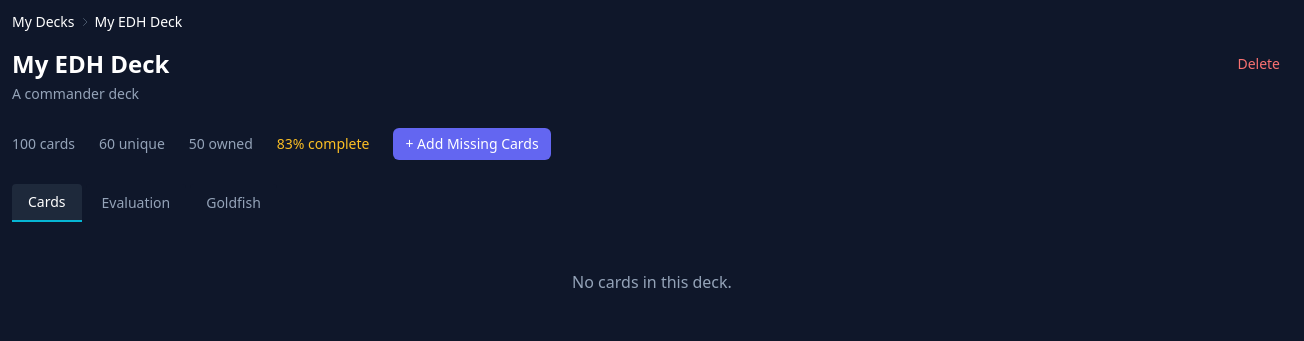
Scenario: DeckView inline edit › clicking description activates edit mode
Click the element with test id "deck-description" at coordinates (76, 94), box x1=12 y1=84 x2=139 y2=103
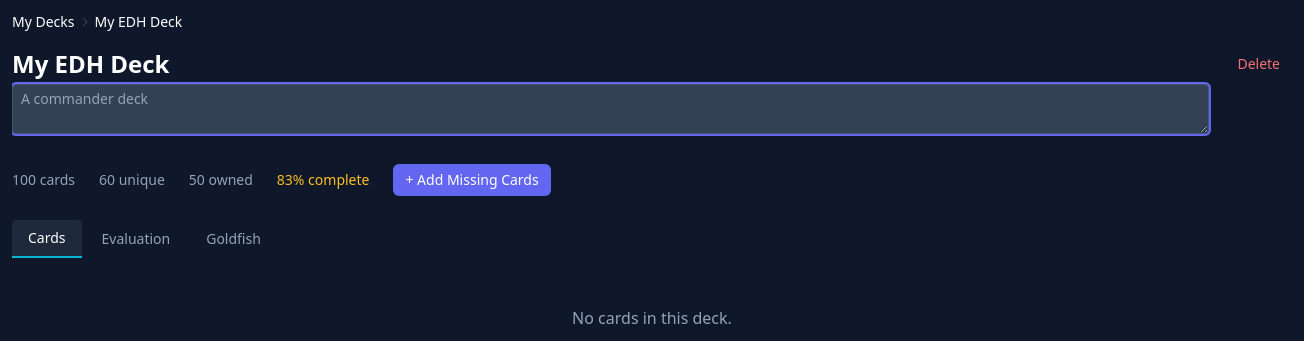
Expected: the text box with test id "deck-description-input" holds "A commander deck", x1=12 y1=84 x2=1209 y2=134
